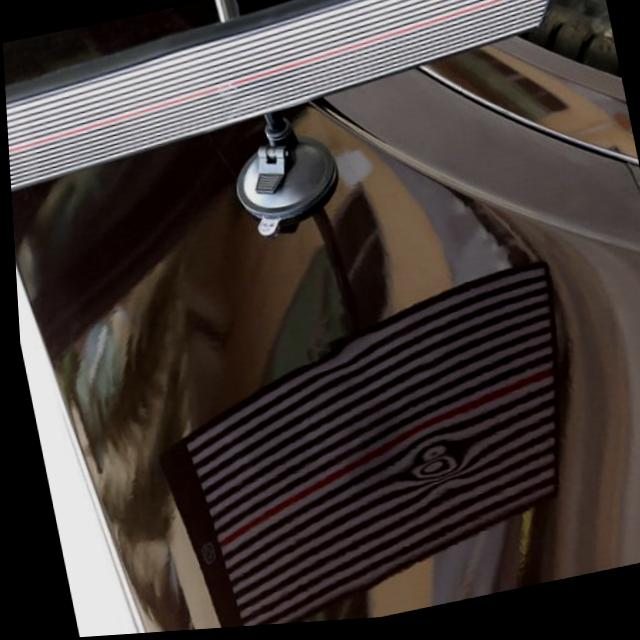PDR-Dent: (391, 433, 478, 509)
